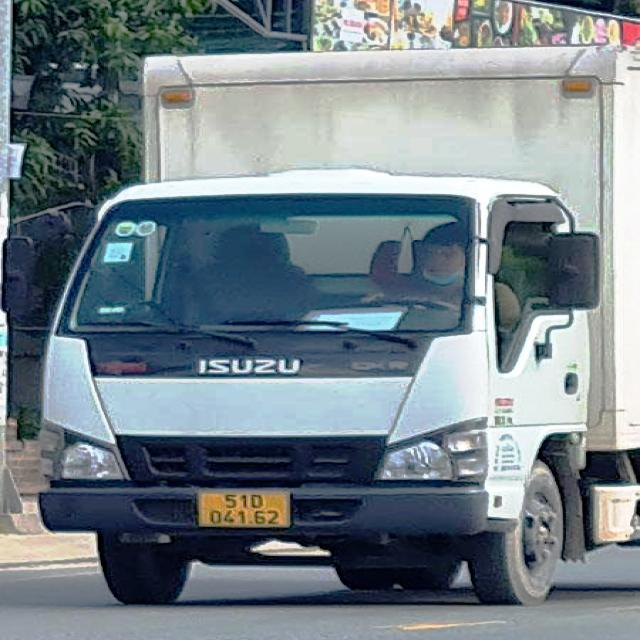license_plate: (200, 492, 289, 528)
